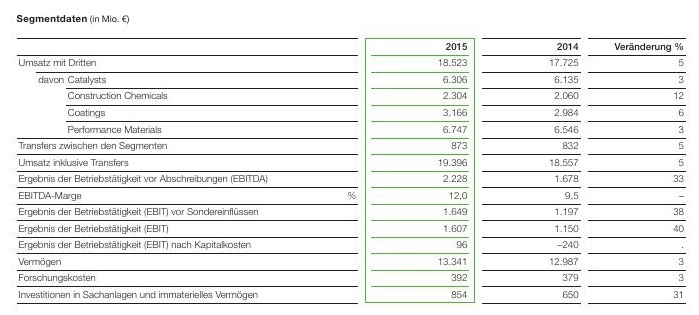table: (0, 0, 699, 315)
